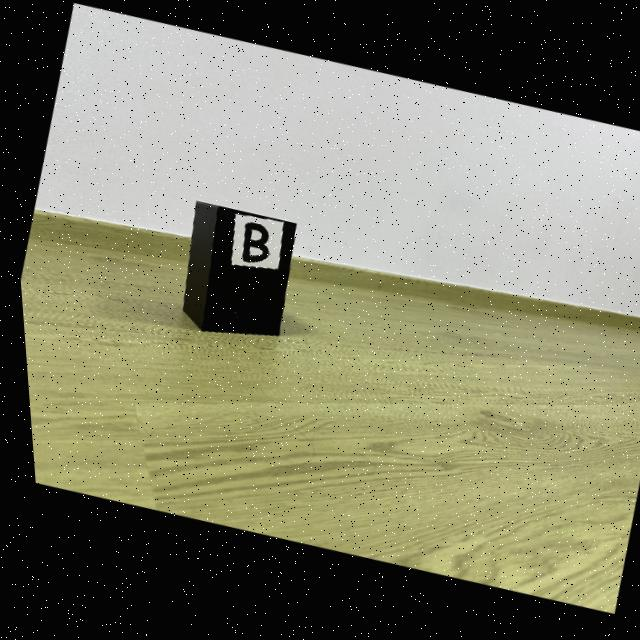B: (238, 224, 265, 265)
